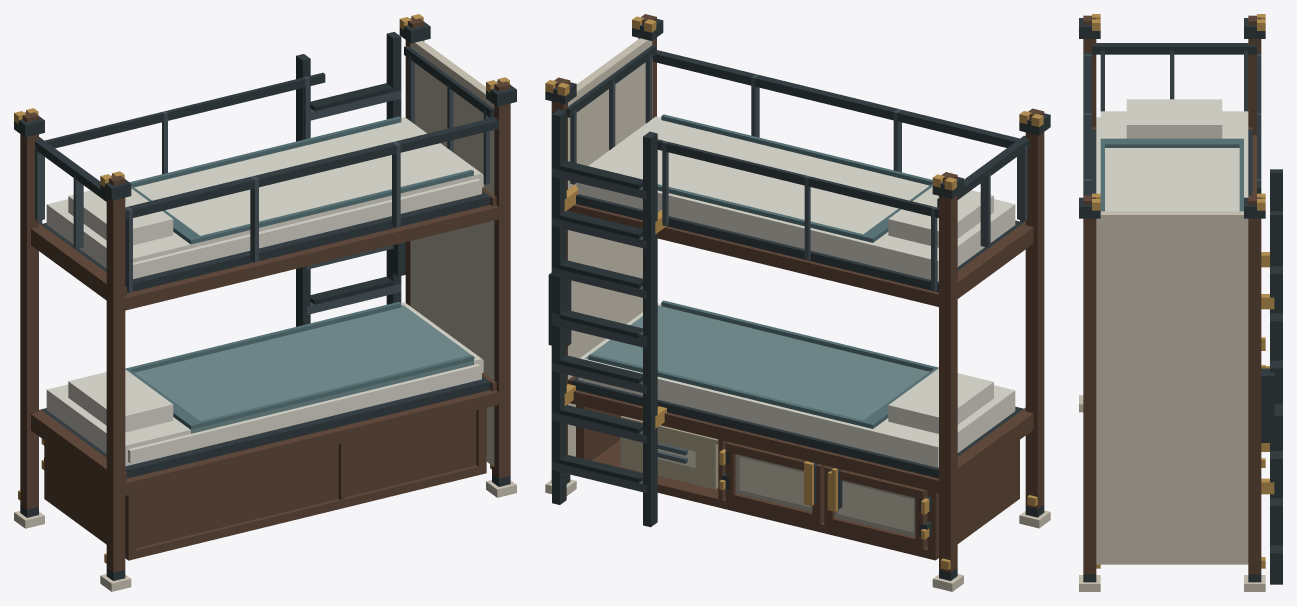
Rendered from LIFE-156.glb.
The picture shows the model from 3 angles, left to right: view 1: azimuth 30°, elevation 25°; view 2: azimuth 150°, elevation 25°; view 3: azimuth 270°, elevation 25°; orthographic projection. The views are drawn at different scales.
Visible parts, largest first — view 1: 监所床位/储物组合; view 2: 监所床位/储物组合; view 3: 监所床位/储物组合.
Boxes of the visible parts, left/top/right/bottom form: 监所床位/储物组合: left=14, top=14, right=516, bottom=591; 监所床位/储物组合: left=545, top=14, right=1050, bottom=591; 监所床位/储物组合: left=1079, top=14, right=1282, bottom=591.
Size of the model in its own units: 2.06 by 1.98 by 0.94.
15 materials, 15 textured.
